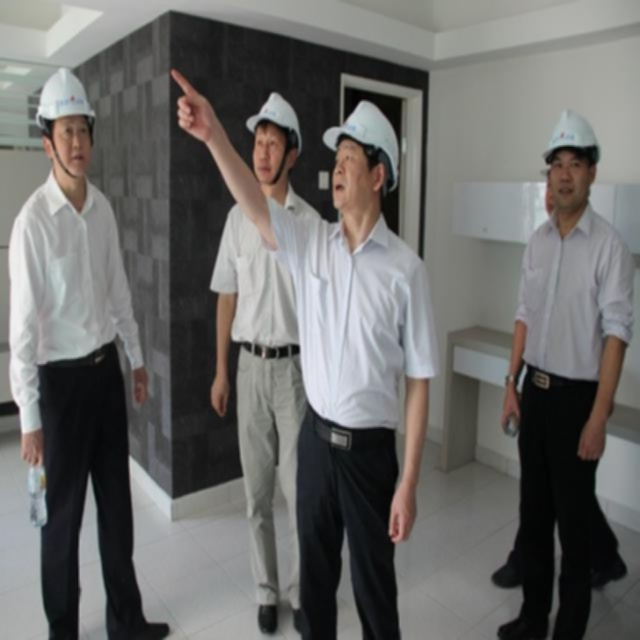Con_Casco: (36, 65, 95, 182), (543, 110, 598, 209)
Sin_Chaleco: (294, 215, 420, 438), (517, 216, 628, 384)
